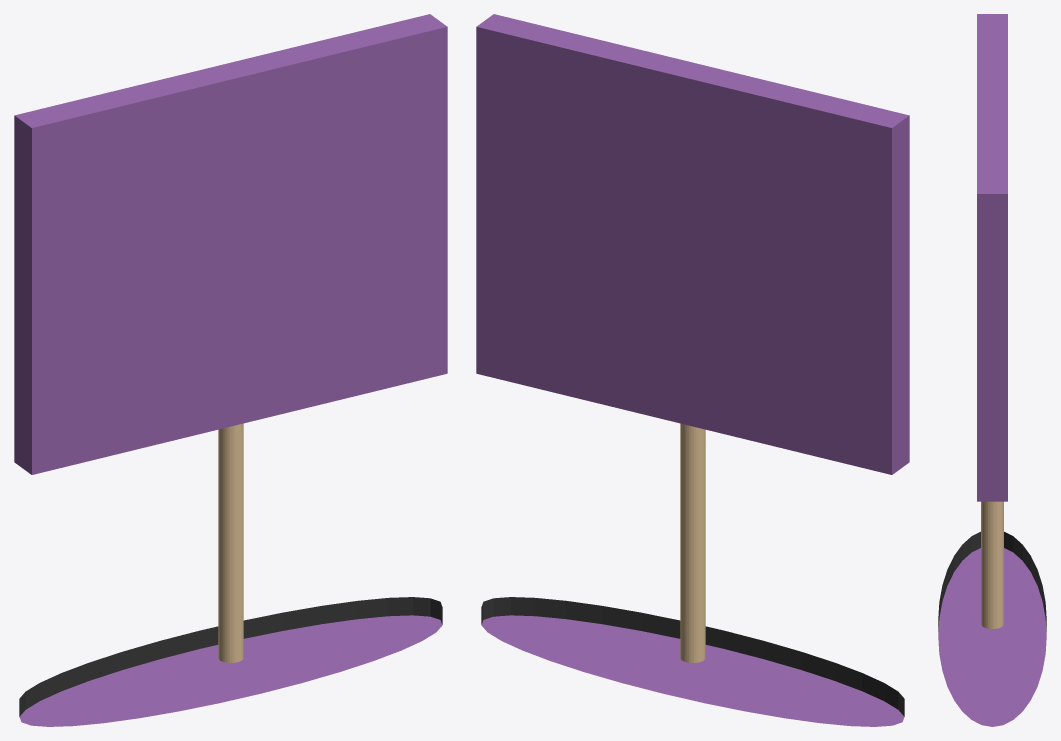
The model's file is block.fbx.
3 views of the same model, side by side, from view 1: azimuth 30°, elevation 25°; view 2: azimuth 150°, elevation 25°; view 3: azimuth 270°, elevation 25° (orthographic). The views are drawn at different scales.
Parts seen in each view (by area): view 1: Block; view 2: Block; view 3: Block.
Part boxes in pixels (box(x1,y1,x2,y2)): Block: box(14, 14, 447, 726); Block: box(476, 14, 909, 726); Block: box(938, 14, 1046, 726).
Size of the model in its own units: 183 by 251 by 46.31.
